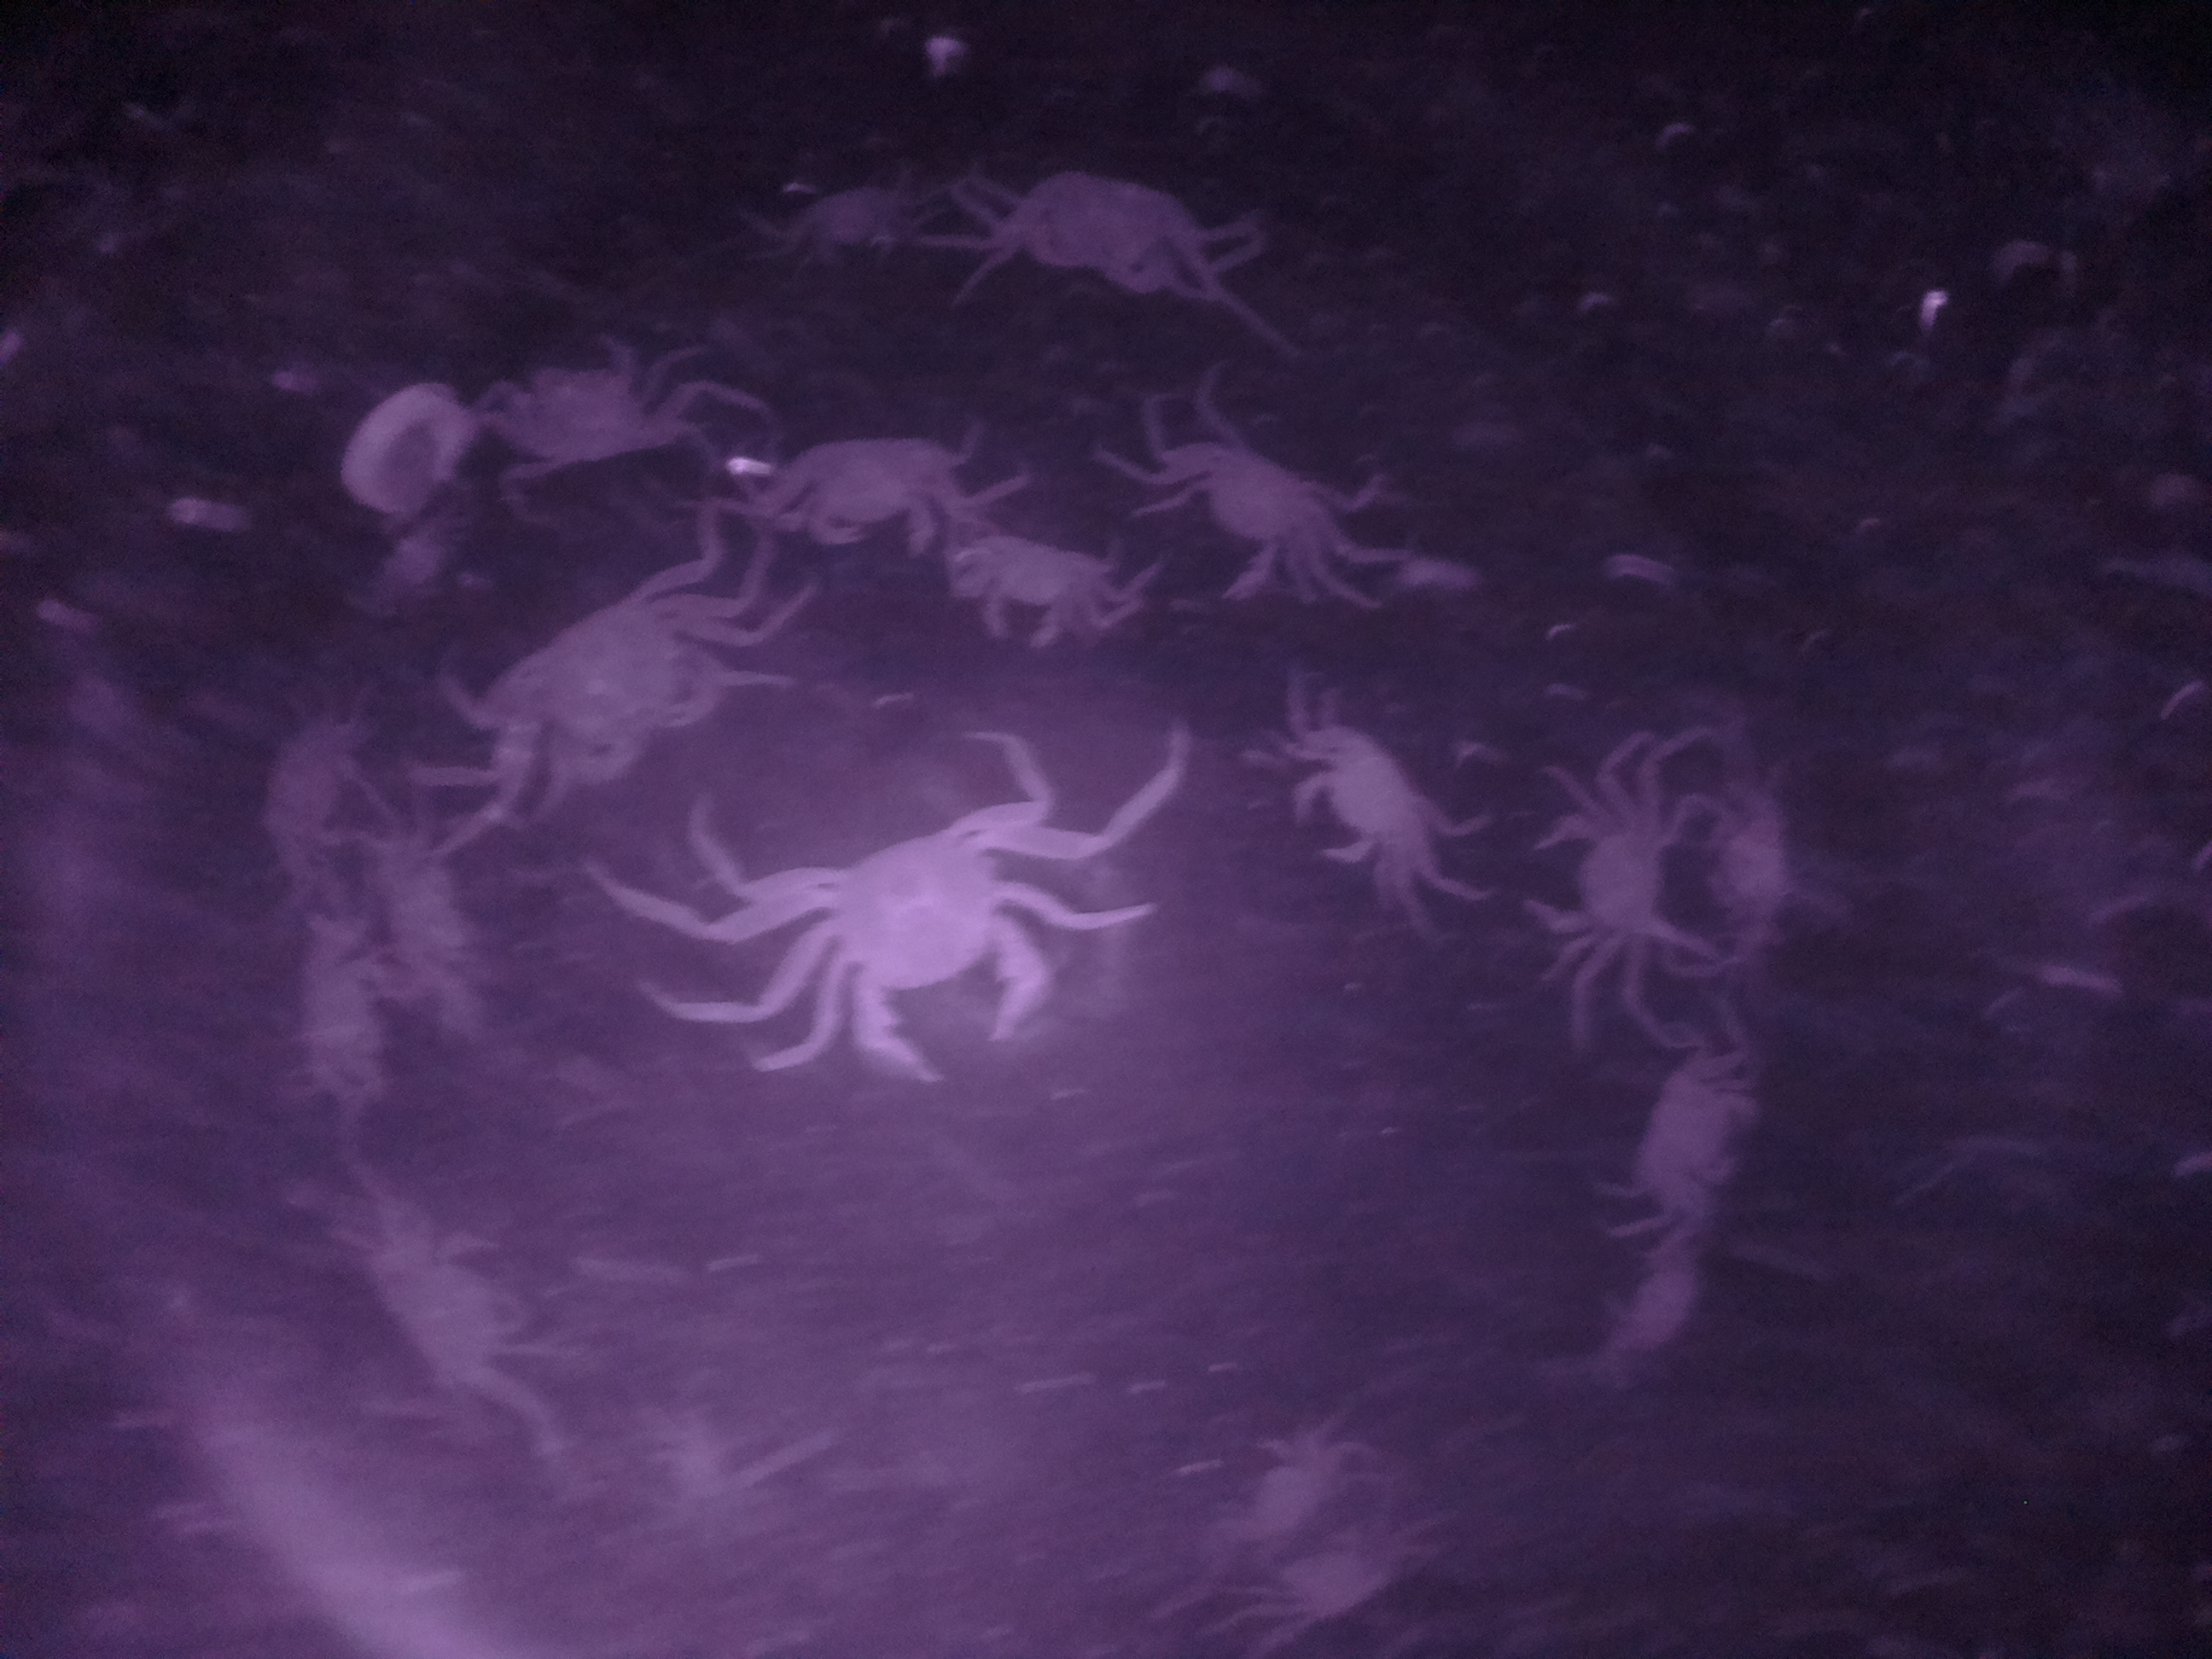Crab: (779, 798, 1082, 1107), (1132, 415, 1341, 612), (979, 159, 1212, 319), (1508, 775, 1693, 976), (763, 415, 998, 551), (1278, 706, 1437, 884), (923, 521, 1118, 664)
